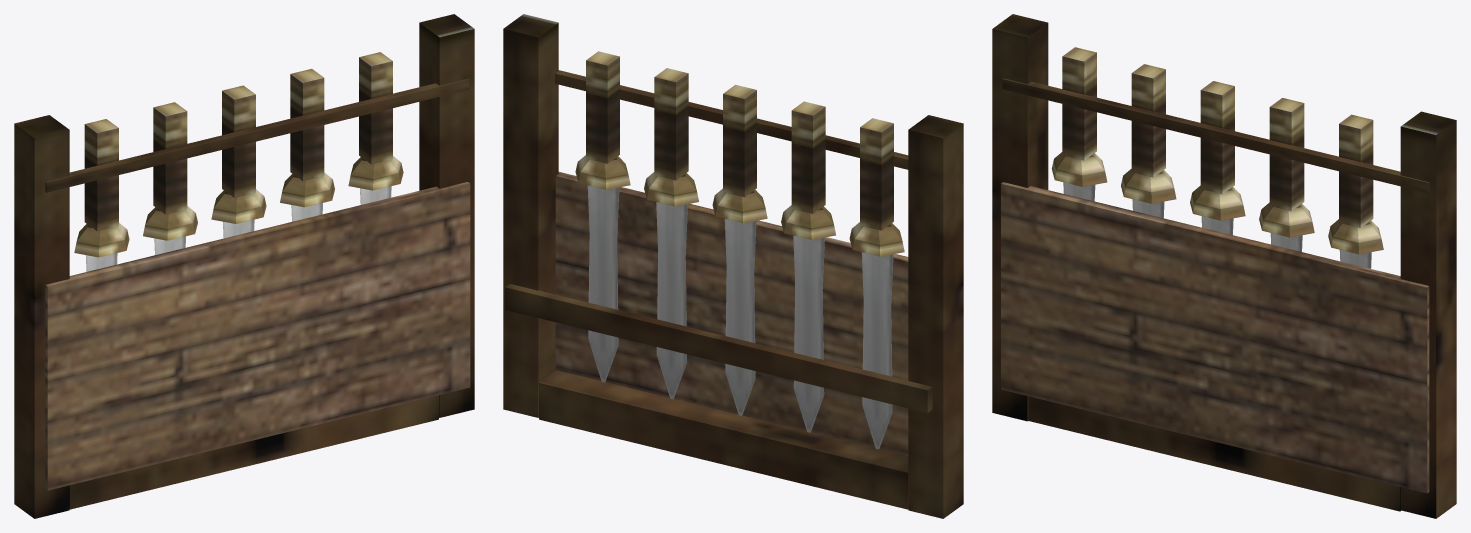
The model's file is treasure_weapons.glb.
3 renders of one model, left to right at view 1: azimuth 30°, elevation 25°; view 2: azimuth 150°, elevation 25°; view 3: azimuth 330°, elevation 25°, orthographic.
Parts seen in each view (by area): view 1: treasure_weapons_part0; view 2: treasure_weapons_part0; view 3: treasure_weapons_part0.
Part boxes in pixels (bbox=[...]): treasure_weapons_part0: bbox=[14, 14, 474, 518]; treasure_weapons_part0: bbox=[503, 14, 963, 518]; treasure_weapons_part0: bbox=[992, 14, 1456, 518].
Bounding box in the file's own units: 1.71 × 1.42 × 0.1843.
1 material, 1 textured.
